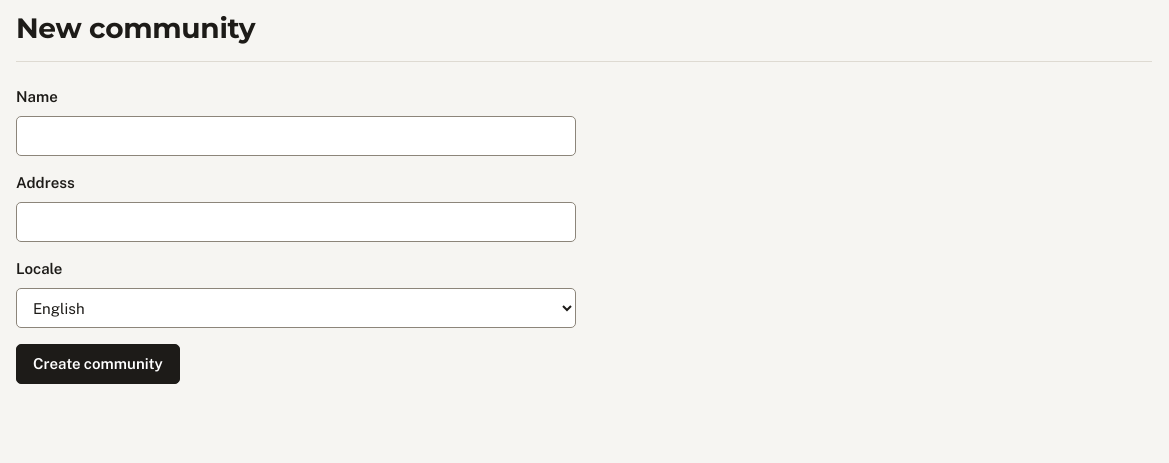
Test case: CommunityCreatePage › blocks submission client-side and shows a validation error when a required field is empty
Type "123 Main St" into the field with test id "community-create-address" at coordinates (296, 222), box [16,202,576,242]
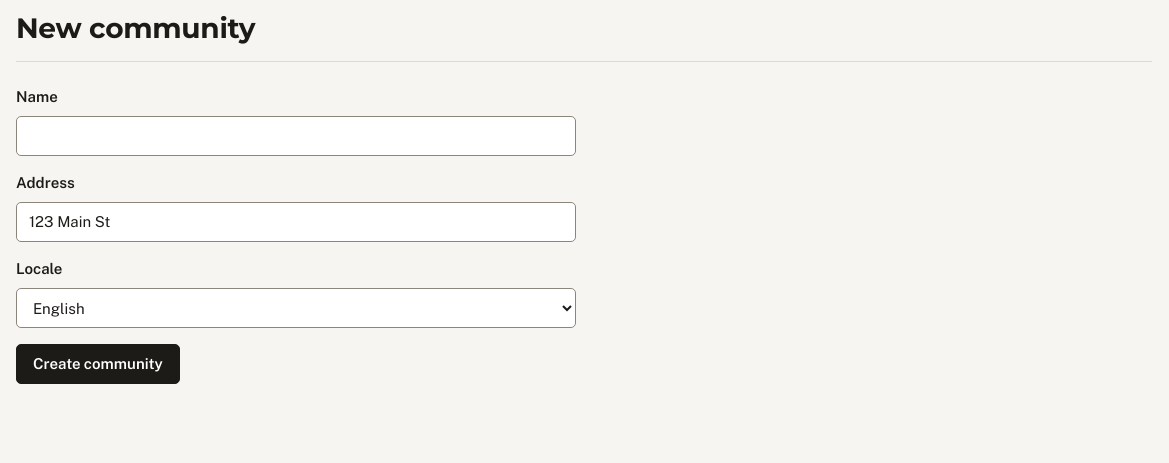
Click the button with test id "community-create-submit" at coordinates (98, 364), box [16,344,180,384]
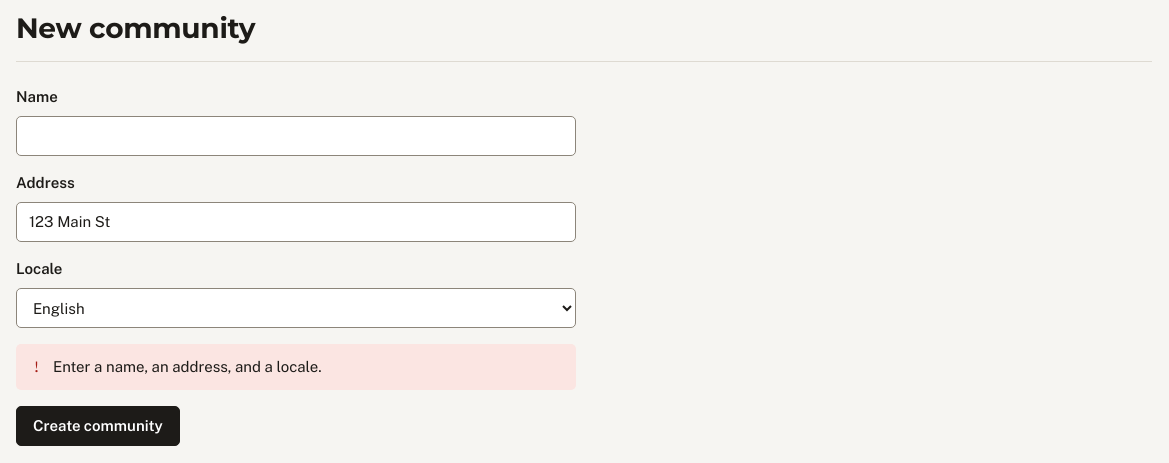
Now the message "! Enter a name, an address, and a locale." is shown, box [16,344,576,390]
